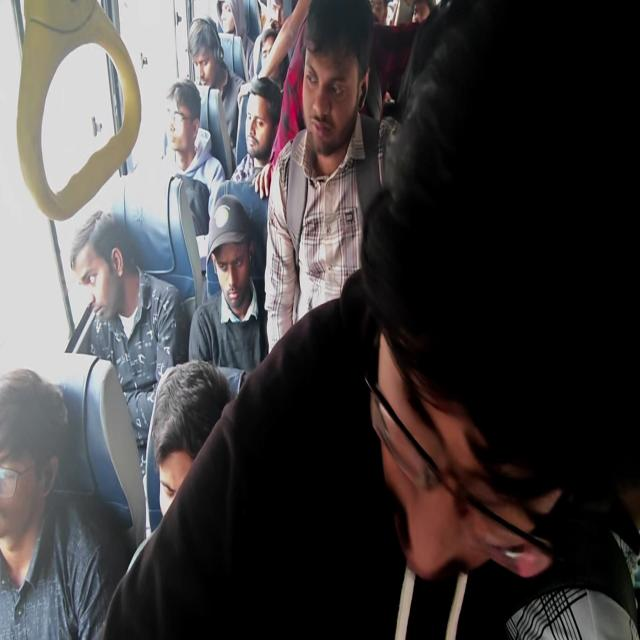person: (360, 0, 639, 638), (102, 271, 408, 638), (263, 0, 389, 355), (70, 208, 184, 534), (0, 367, 128, 639), (188, 193, 268, 394), (151, 358, 232, 520), (163, 78, 226, 234), (187, 16, 245, 154), (229, 75, 283, 198), (216, 0, 255, 81)
